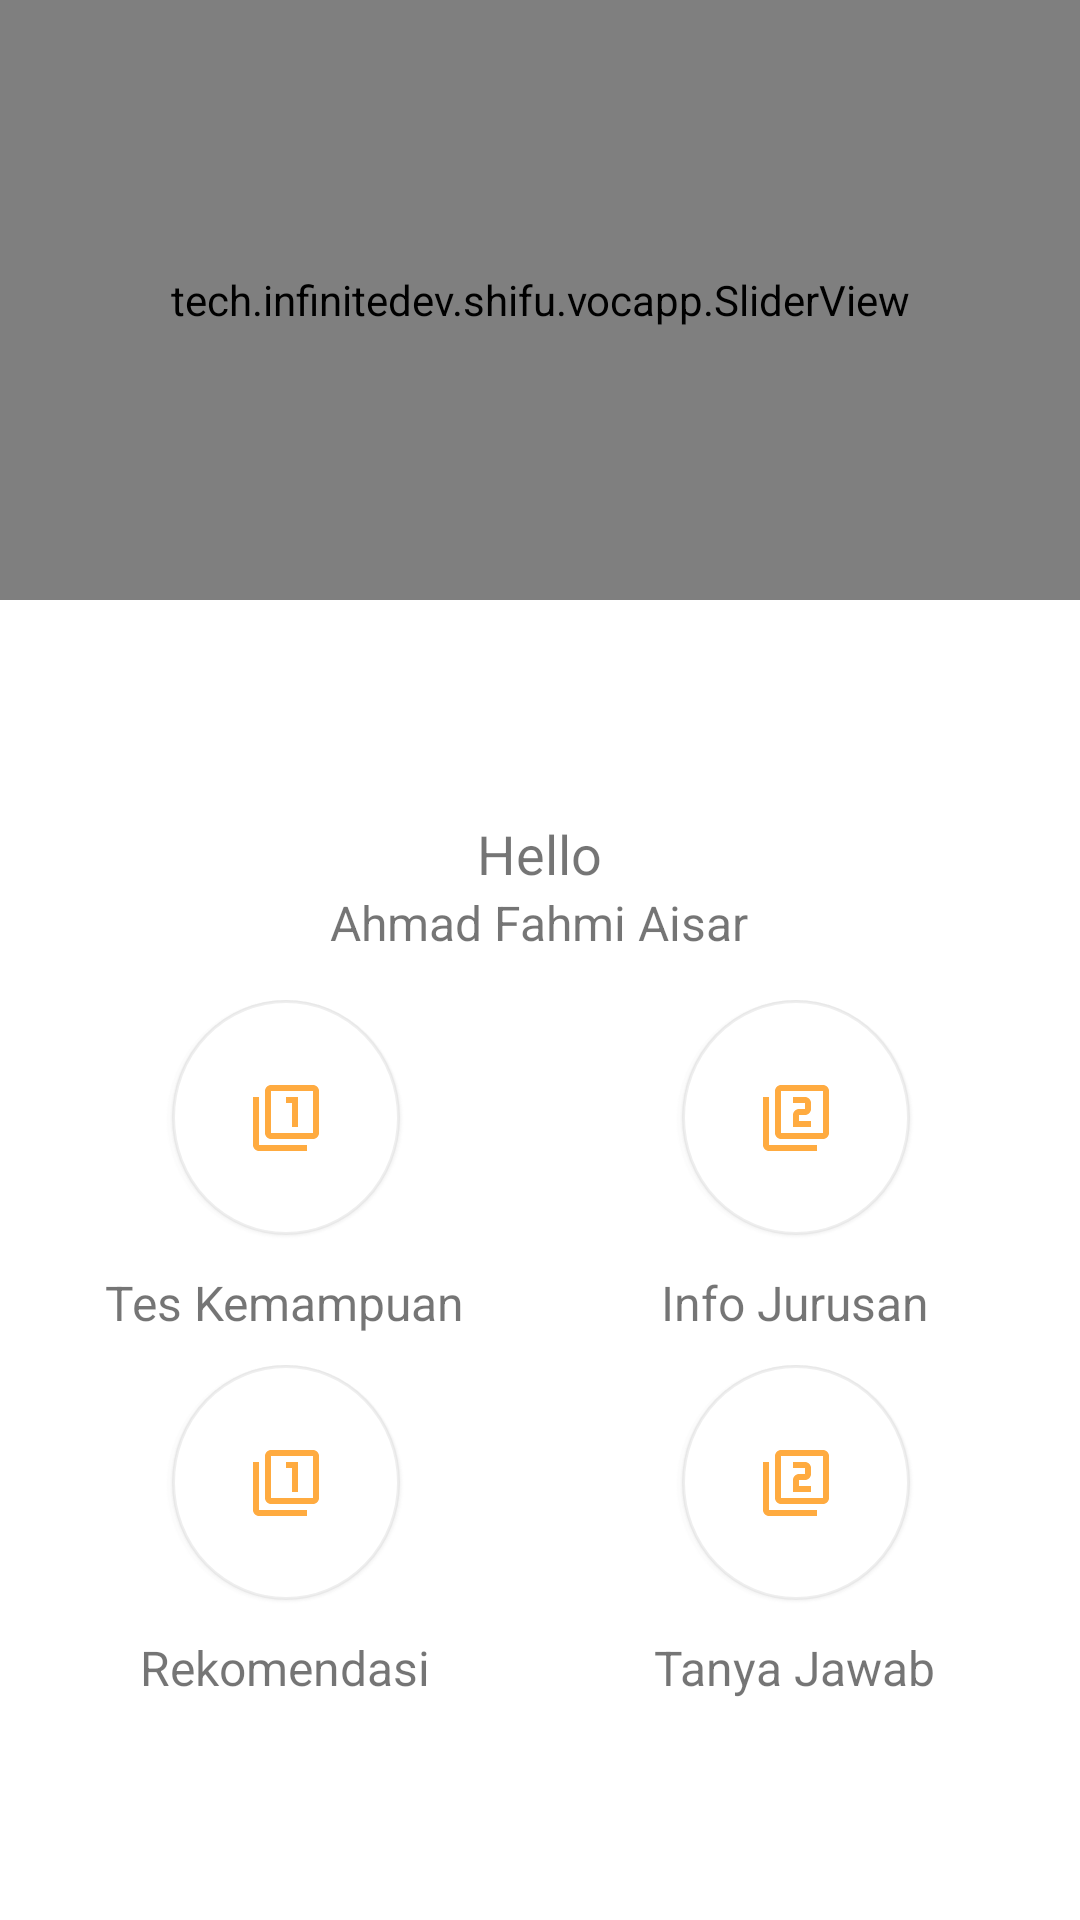

Named icons in this screenshot (1080px x 1920px) and their centers, point (x, y):
Menu Dua: point (796, 1118)
Menu satu: point (286, 1118)
